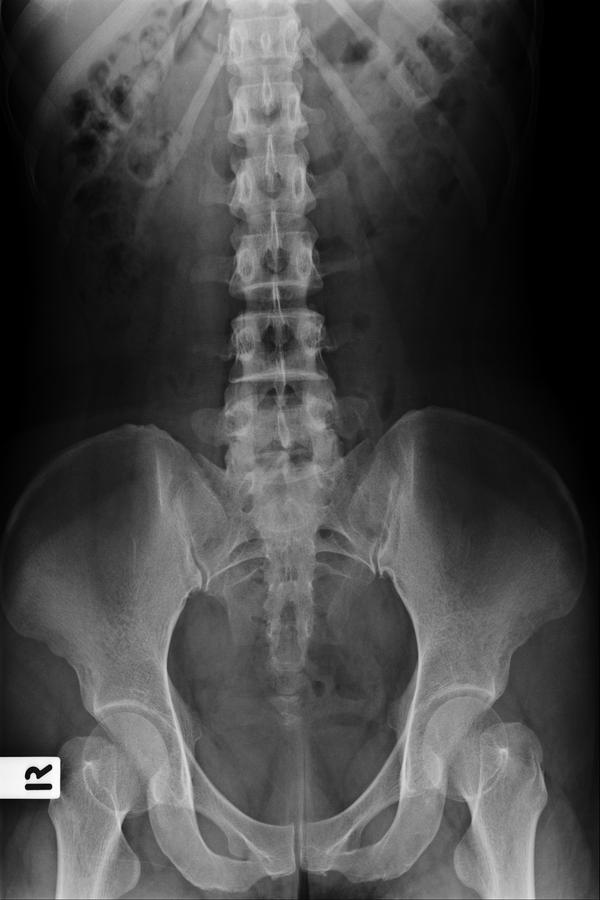not lumbar scoliosis: (222, 142, 336, 471)
